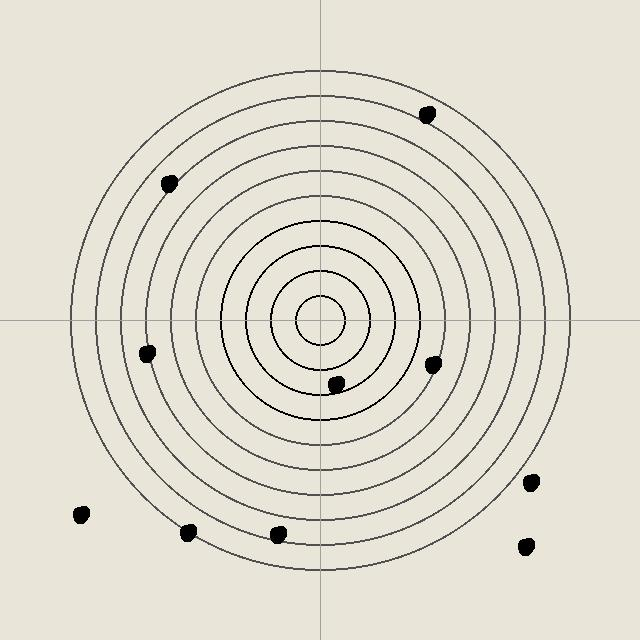random_scatter: (177, 522, 197, 542), (416, 104, 436, 124), (158, 173, 178, 193), (267, 524, 287, 544), (515, 536, 535, 556), (422, 354, 442, 374), (520, 472, 540, 492), (136, 343, 156, 363), (70, 504, 90, 524), (325, 374, 345, 394)
